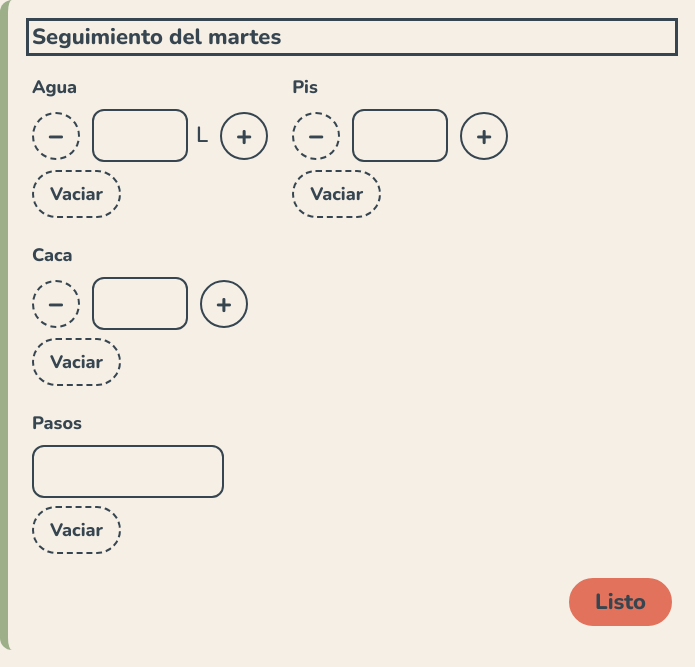
Test: TrackingPanel › + de agua 6 veces desde vacío muestra 1,5 y guarda una sola vez tras 600 ms
The width and height of the screenshot is (695, 667).
Click the button named "Añadir": (244, 136) [220, 112, 268, 160]
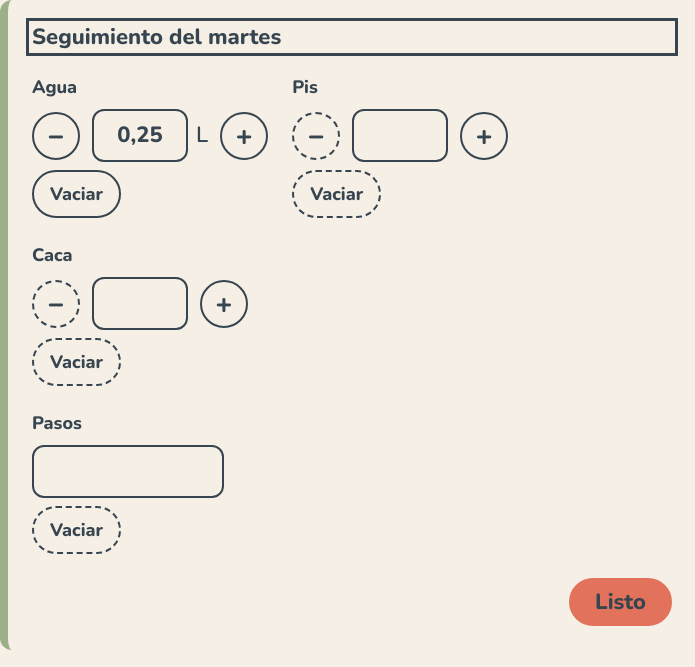
Click the button named "Añadir": (244, 136) [220, 112, 268, 160]
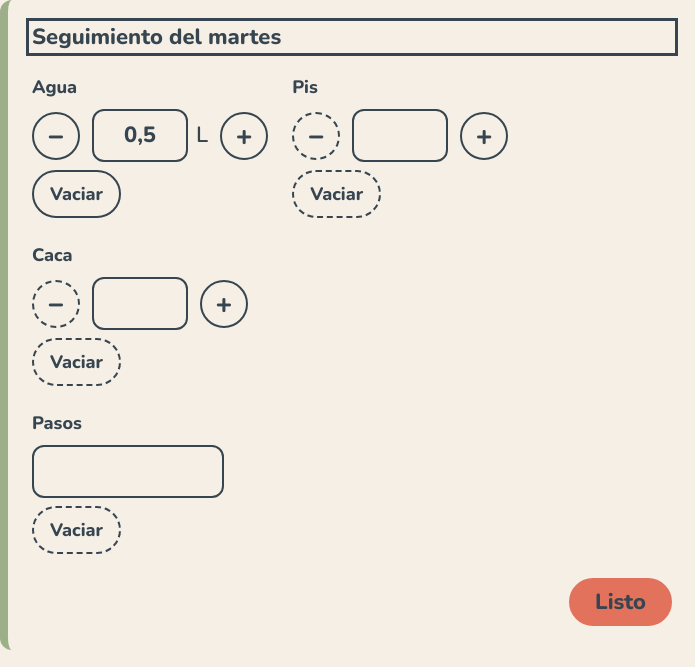
Click the button named "Añadir": (244, 136) [220, 112, 268, 160]
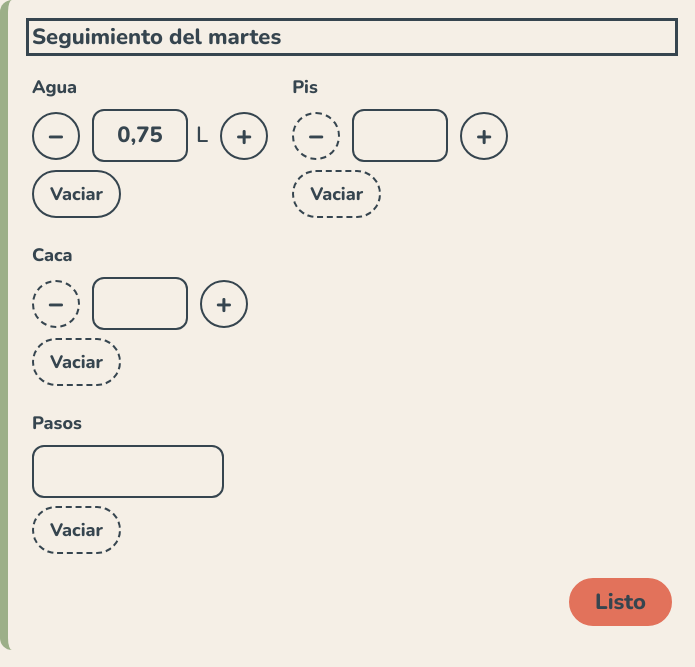
Click the button named "Añadir": (244, 136) [220, 112, 268, 160]
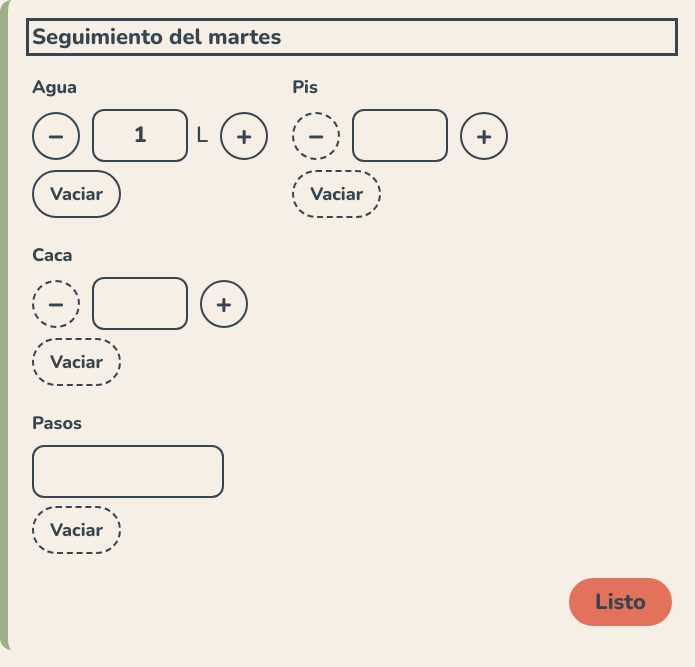
Click the button named "Añadir": (244, 136) [220, 112, 268, 160]
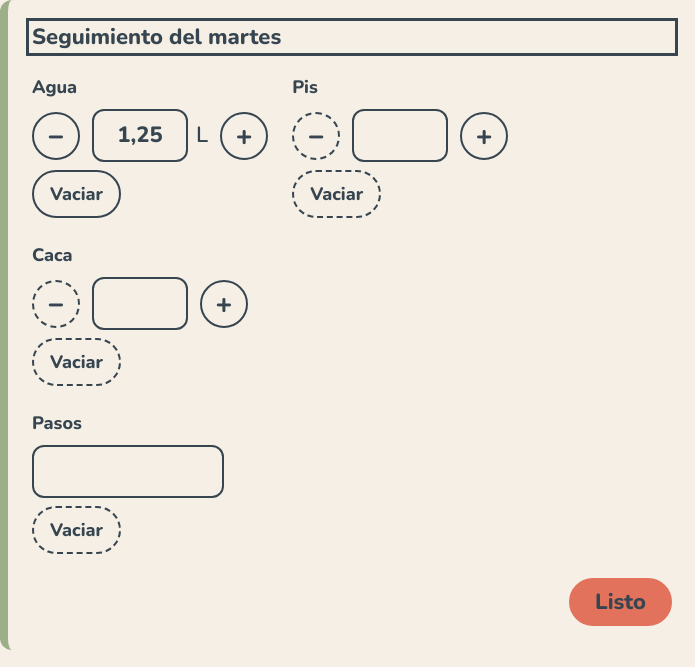
Click the button named "Añadir": (244, 136) [220, 112, 268, 160]
Wait 600 ms
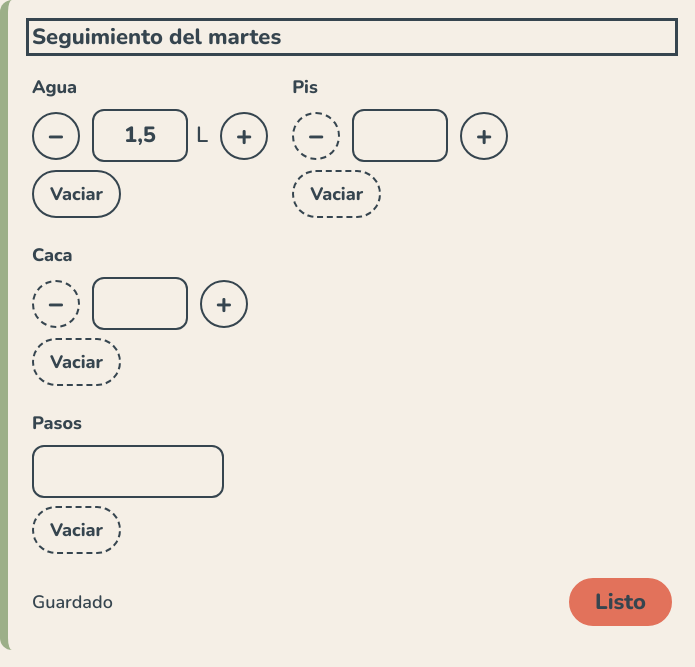
expect the field labelled "Agua" holds "1,5": met, box [92, 109, 188, 162]
expect the message reads "Guardado": met, box [32, 590, 113, 614]
